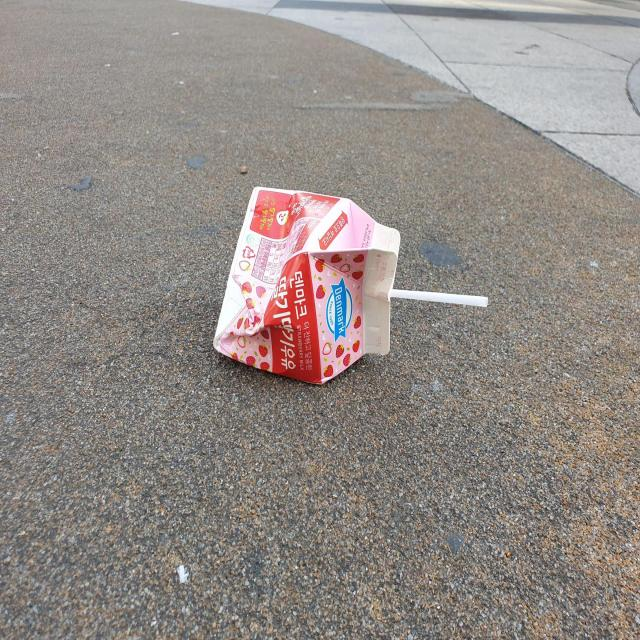paperpack: (214, 187, 401, 383)
